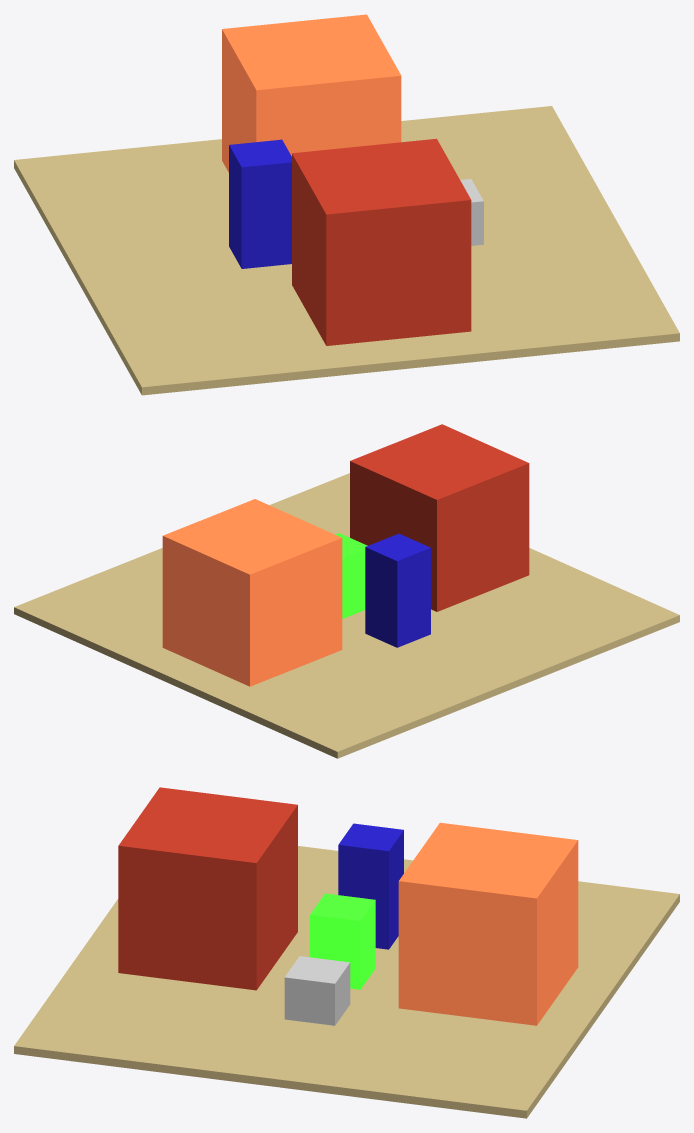
3 renders of one model, top to bottom at view 1: azimuth 30°, elevation 25°; view 2: azimuth 150°, elevation 25°; view 3: azimuth 270°, elevation 25°, orthographic. The views are drawn at different scales.
Visible parts, largest first — view 1: Cube.005, Cube.006, Cube.001, Cube.002, Cube.004; view 2: Cube.005, Cube.001, Cube.006, Cube.002, Cube.003; view 3: Cube.005, Cube.001, Cube.006, Cube.002, Cube.003, Cube.004.
Boxes of the visible parts, x1=… form: Cube.005: x1=14, y1=106, x2=679, y2=395; Cube.006: x1=292, y1=138, x2=471, y2=345; Cube.001: x1=222, y1=14, x2=401, y2=172; Cube.002: x1=229, y1=139, x2=291, y2=268; Cube.004: x1=460, y1=179, x2=483, y2=245; Cube.005: x1=14, y1=473, x2=679, y2=758; Cube.001: x1=162, y1=499, x2=342, y2=686; Cube.006: x1=350, y1=424, x2=529, y2=611; Cube.002: x1=365, y1=533, x2=430, y2=647; Cube.003: x1=335, y1=533, x2=367, y2=618; Cube.005: x1=14, y1=846, x2=679, y2=1118; Cube.001: x1=398, y1=822, x2=578, y2=1025; Cube.006: x1=118, y1=787, x2=297, y2=990; Cube.002: x1=338, y1=823, x2=403, y2=949; Cube.003: x1=310, y1=893, x2=375, y2=989; Cube.004: x1=284, y1=956, x2=350, y2=1025.
Size of the model in its own units: 9.23 by 2.16 by 9.23.
